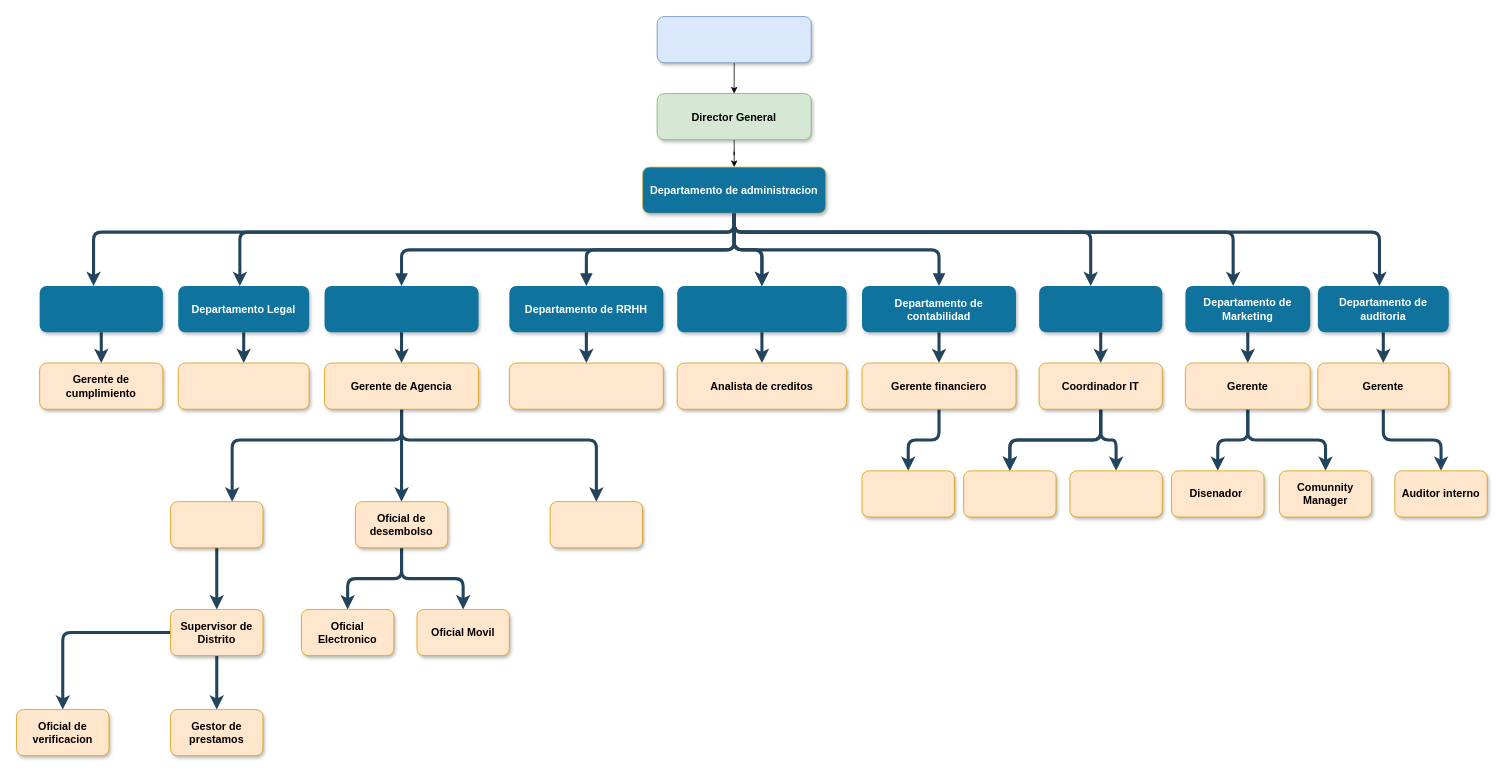
The diagram is 1505 pixels wide and 775 high, and some of its shapes have lost their labels. Here are the shapes that lost their labels. From the top down, the centre of each, then its label:
At point 734,40: "Gerente General".
At point 101,310: "Departamento de cumplimiento".
At point 402,310: "Departamento de Ventas".
At point 762,310: "Departamento de procesamiento de creditos".
At point 1101,310: "Departamento de IT".
At point 244,387: "Abogado externo o interno".
At point 587,387: "Gerente de RRHH".
At point 908,494: "Contador".
At point 1010,494: "Analista de sistemas".
At point 1116,494: "Administrador de base de datos".
At point 217,525: "Jefe Supervisor".
At point 596,525: "Auxiliar de cajera".
